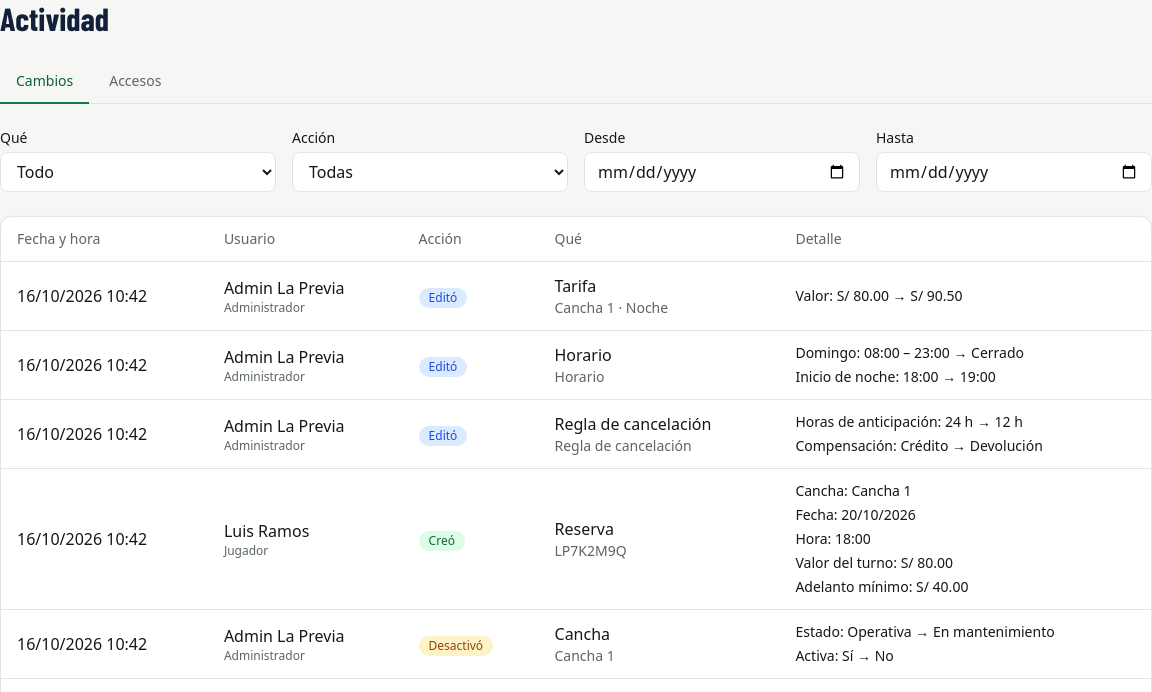
Test: Actividad: pestaña Accesos › la pestaña Cambios está activa al abrir y Accesos se pide solo al elegirla
Click the tab "Accesos" at (135, 82), box x1=93 y1=60 x2=177 y2=104
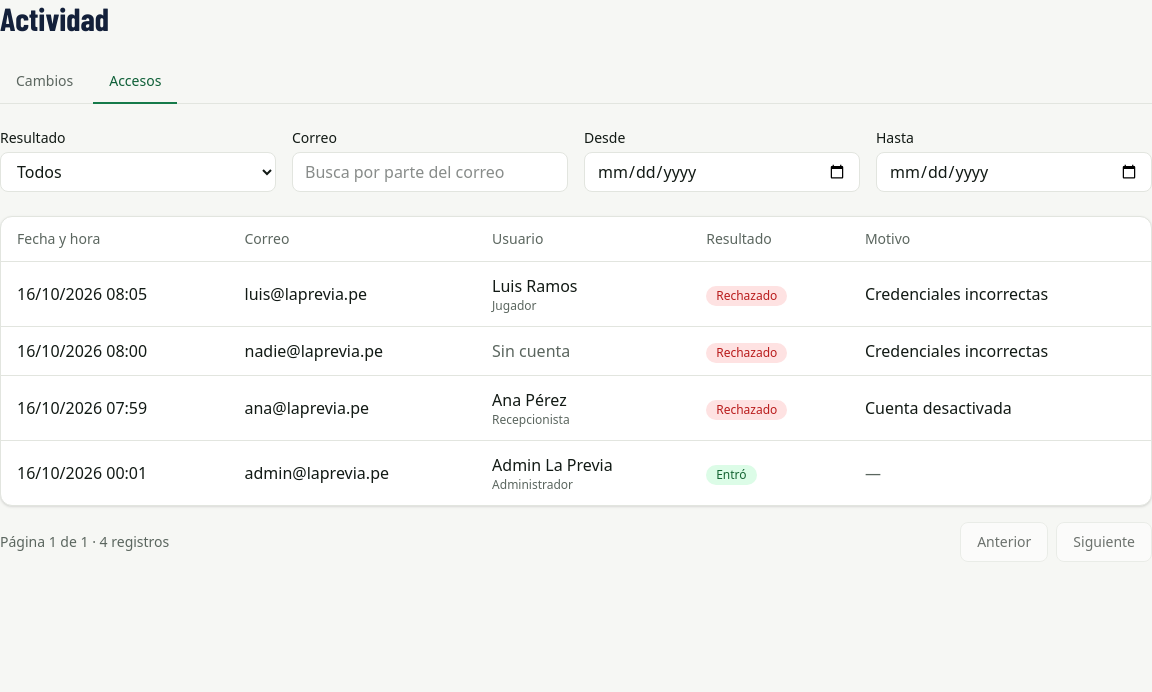
Check: the table named "Accesos" is shown, box x1=1 y1=217 x2=1151 y2=505
